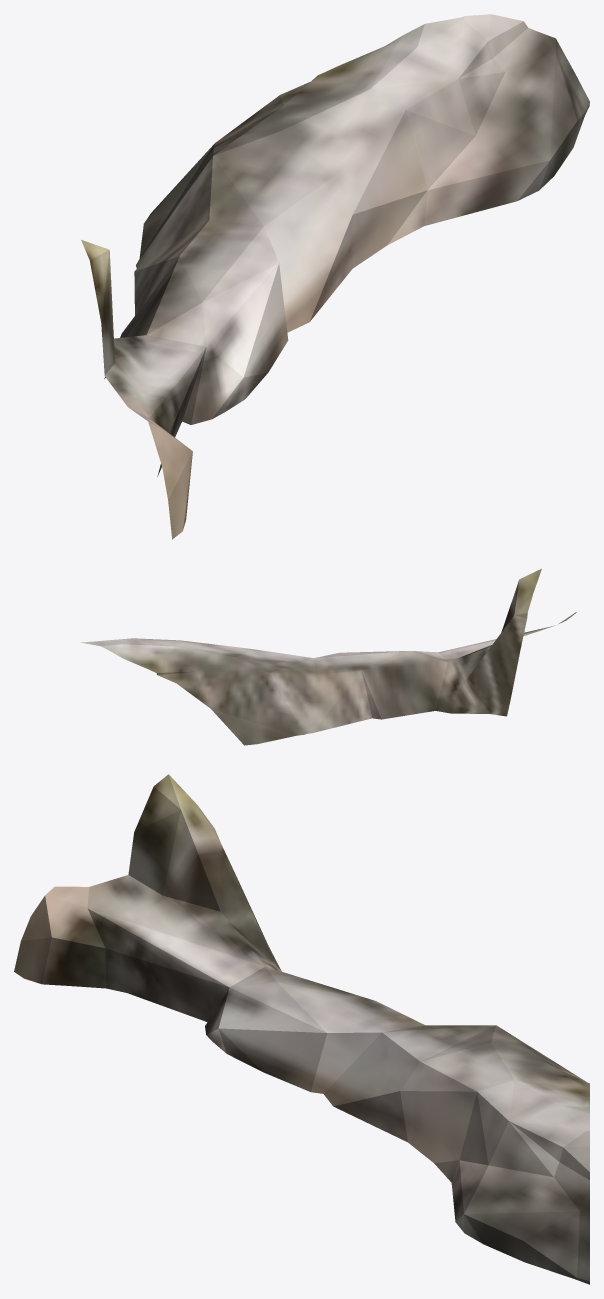
3 views of the same model, one above another, from view 1: azimuth 30°, elevation 25°; view 2: azimuth 150°, elevation 25°; view 3: azimuth 270°, elevation 25° (orthographic). The views are drawn at different scales.
Bounding box in the file's own units: 1.08 × 0.3192 × 0.8429.
Materials: 1 (1 with a texture image).
